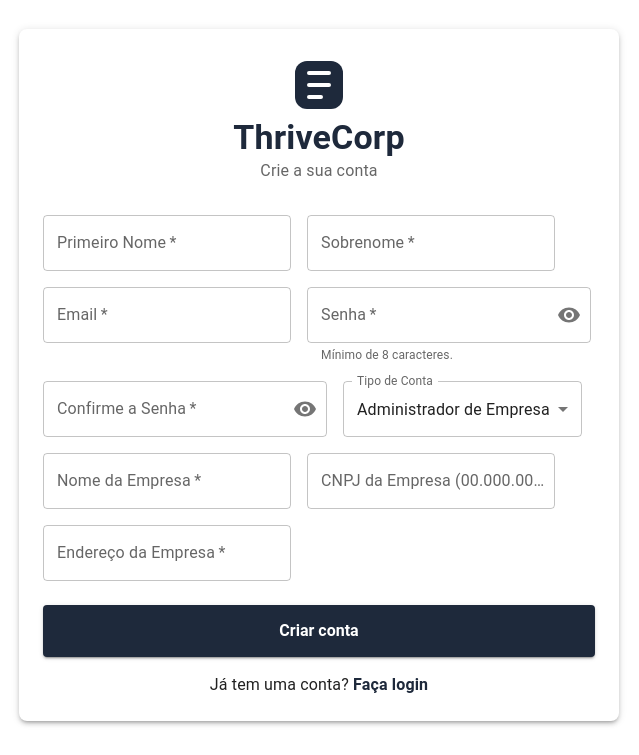
Test: RegisterPage Component › Validações do Formulário › deve validar documento obrigatório
The image size is (639, 755).
Step 1. Type "Test" into the field labelled "Primeiro Nome *" → [167, 242], box [43,214,291,270]
Step 2. Type "User" into the field labelled "Sobrenome *" → [431, 242], box [307,214,555,270]
Step 3. Type "valid@email.com" into the field labelled "Email *" → [167, 314], box [43,286,291,342]
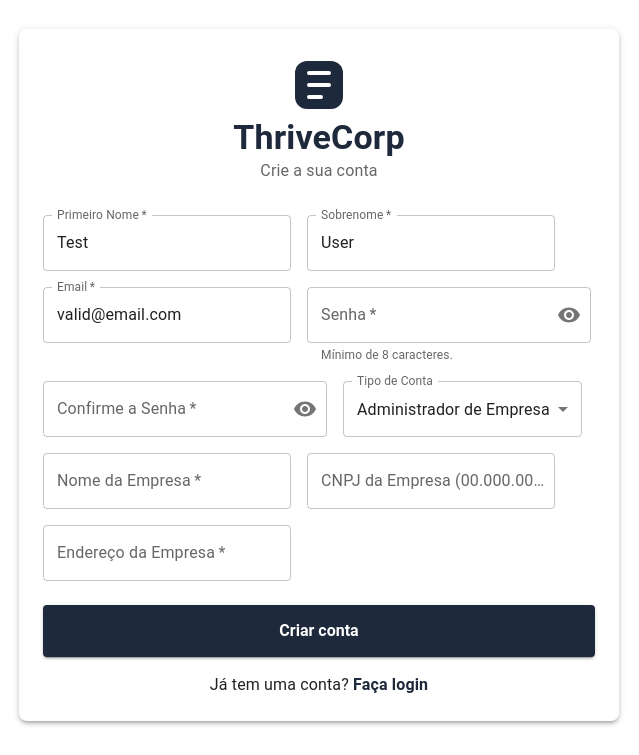
Step 4. Type "12345678" into the password field labelled "Senha *" → [424, 314], box [307,286,541,342]
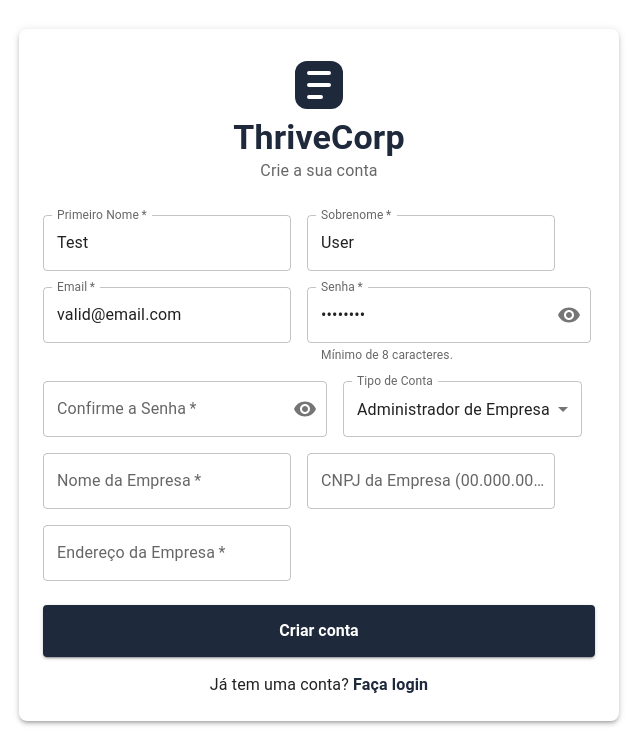
Step 5. Type "12345678" into the password field labelled "Confirme a Senha *" → [160, 409], box [43,381,277,437]
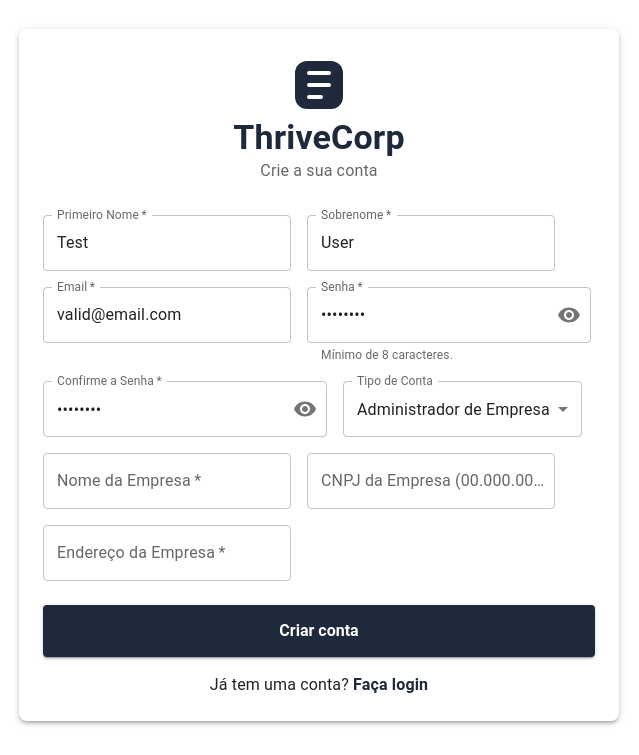
Step 6. Type "Empresa Teste" into the field labelled "Nome da Empresa *" → [167, 481], box [43,453,291,509]
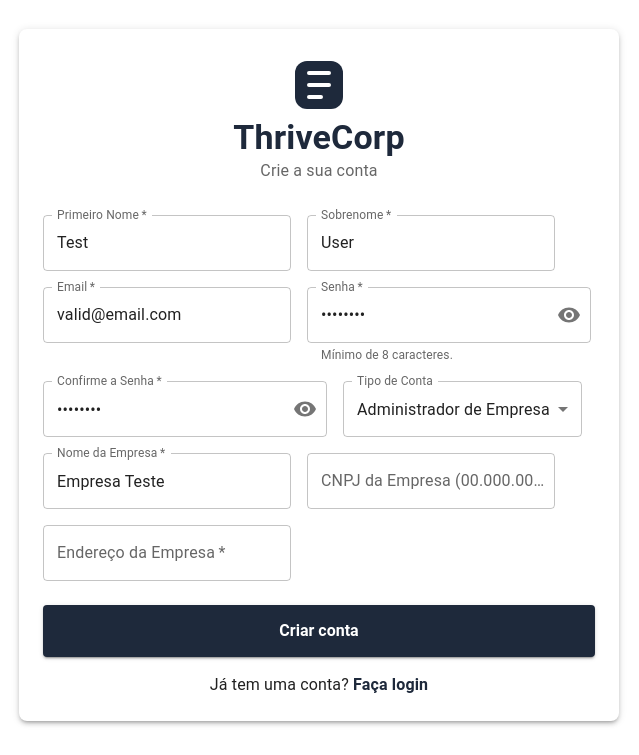
Step 7. Type "Rua Teste" into the field labelled "Endereço da Empresa *" → [167, 553], box [43,525,291,581]
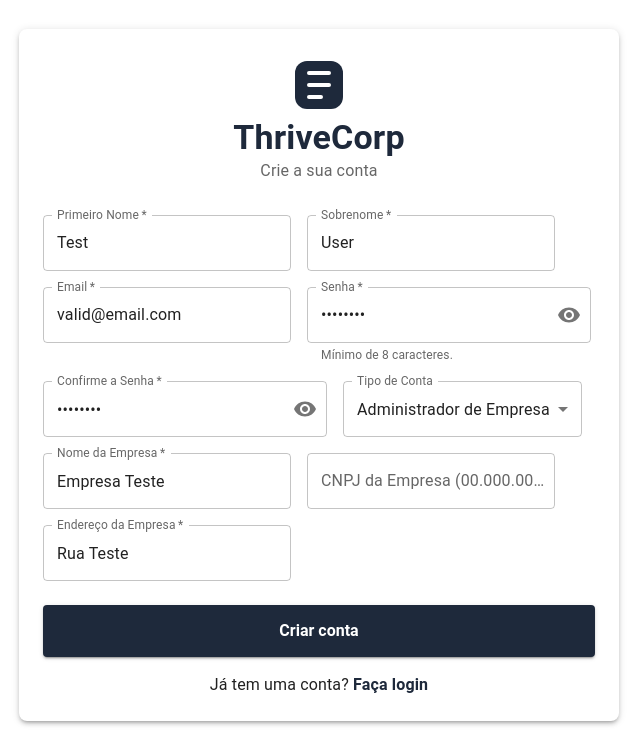
Step 8. Click the button "Criar conta" → [319, 631], box [43,605,595,657]
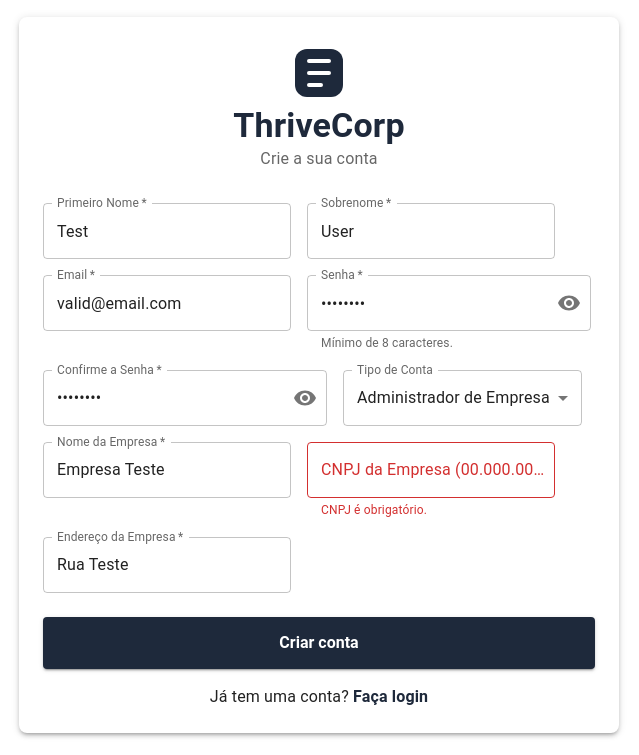
Result: the text "CNPJ é obrigatório." is shown at [321,503,427,517]
